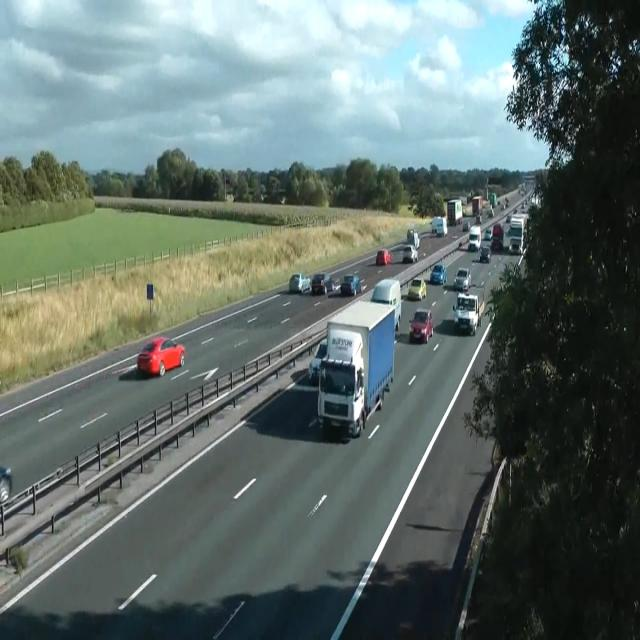bus: (137, 336, 185, 377), (308, 339, 328, 385), (408, 309, 433, 343), (310, 272, 332, 295), (0, 465, 12, 505), (289, 273, 311, 294), (408, 276, 427, 300), (453, 266, 471, 290), (429, 263, 446, 285), (402, 245, 418, 263), (508, 236, 522, 254), (376, 249, 390, 265), (479, 246, 491, 262), (406, 228, 414, 242), (484, 228, 492, 240), (462, 220, 470, 231), (486, 206, 494, 217), (475, 213, 481, 224), (505, 196, 509, 207)
jeep: (452, 291, 480, 335), (339, 274, 361, 296)
minibus: (317, 300, 395, 438), (371, 277, 401, 331), (503, 213, 529, 254), (447, 198, 463, 226), (468, 225, 481, 251), (431, 216, 447, 236), (406, 228, 419, 249), (472, 196, 482, 216), (488, 192, 497, 207)
